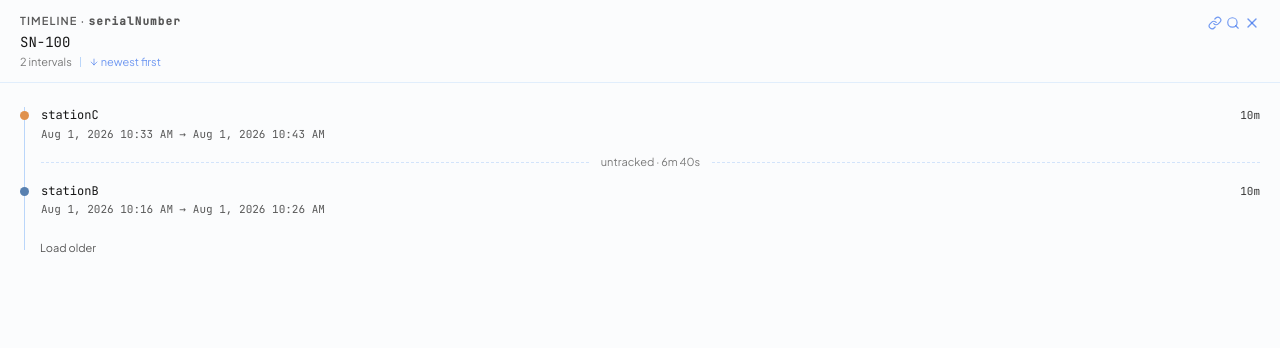
Scenario: EntityTimelinePanel pager + copy link › keeps Load older while older pages still overflow
Click the button "Load older".
click(68, 248)  # box [40,240,96,256]
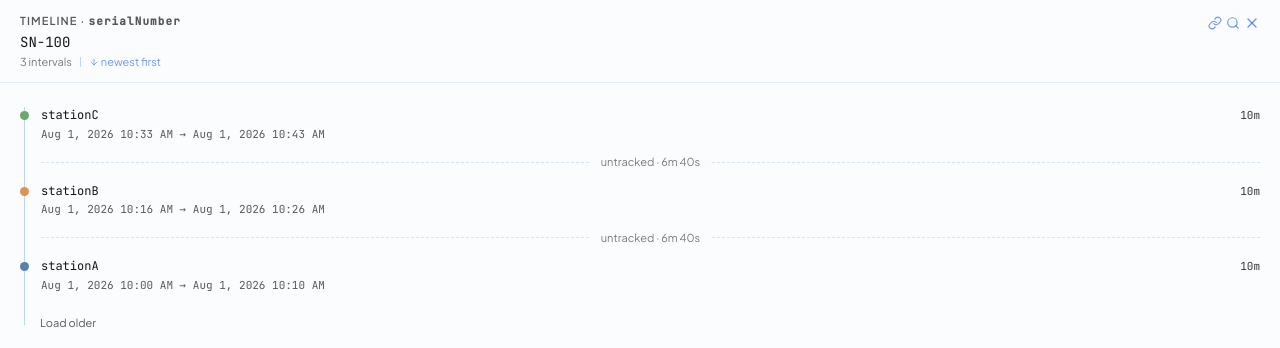
Expected: the button "Load older" is shown, [40,315,96,332]
Now the text "stationA" is shown, box [41,258,99,274]
